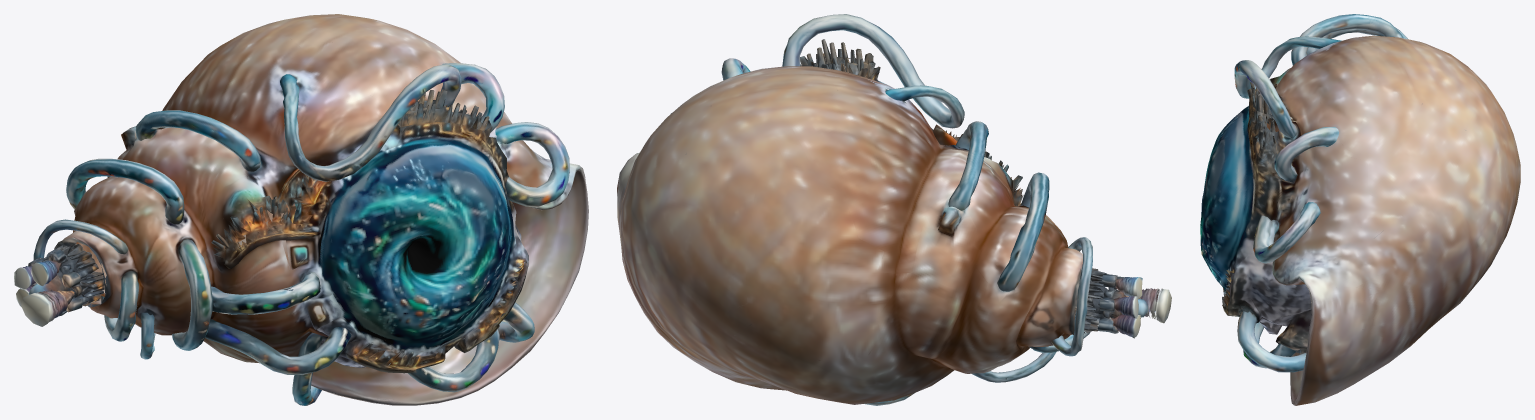
The model's file is Meshy_AI_Cosmic_Nautilus_1122112447_texture.glb.
3 views of the same model, side by side, from view 1: azimuth 30°, elevation 25°; view 2: azimuth 150°, elevation 25°; view 3: azimuth 270°, elevation 25° (orthographic). The views are drawn at different scales.
Visible parts, largest first — view 1: geometry_0; view 2: geometry_0; view 3: geometry_0.
Boxes of the visible parts, box(x1,y1,x2,y2) form: geometry_0: box(14, 14, 588, 405); geometry_0: box(617, 14, 1171, 405); geometry_0: box(1200, 14, 1520, 405).
Size of the model in its own units: 0.1957 by 0.12 by 0.1121.
1 material, 1 textured.
